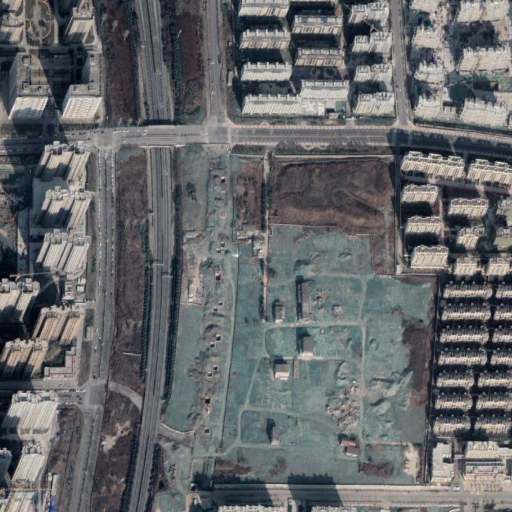cw: (153, 146, 438, 489)
